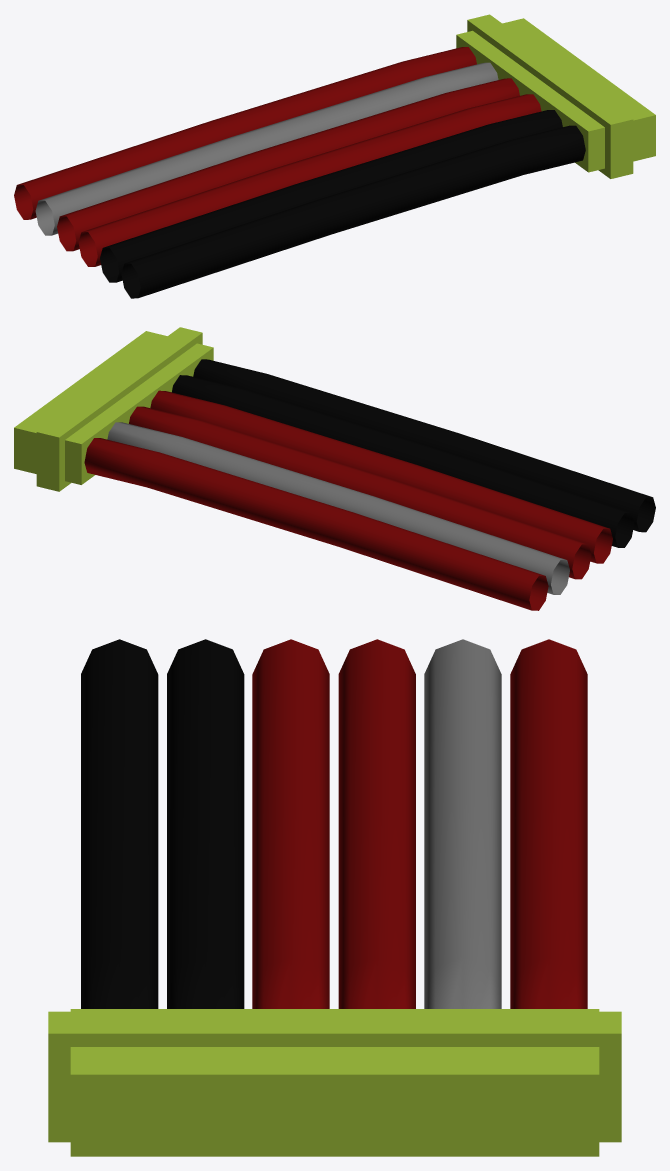
Rendered from Mesh_MtPanorama_IDE.FBX.
3 renders of one model, top to bottom at view 1: azimuth 30°, elevation 25°; view 2: azimuth 150°, elevation 25°; view 3: azimuth 270°, elevation 25°, orthographic. The views are drawn at different scales.
Parts seen in each view (by area): view 1: Mesh_MtPanorama_IDE; view 2: Mesh_MtPanorama_IDE; view 3: Mesh_MtPanorama_IDE.
Boxes of the visible parts, <box> form: Mesh_MtPanorama_IDE: <box>14,14,655,298</box>; Mesh_MtPanorama_IDE: <box>14,327,655,610</box>; Mesh_MtPanorama_IDE: <box>48,639,621,1156</box>.
Size of what is drawn, in the model's own units: 761 by 369 by 105.
